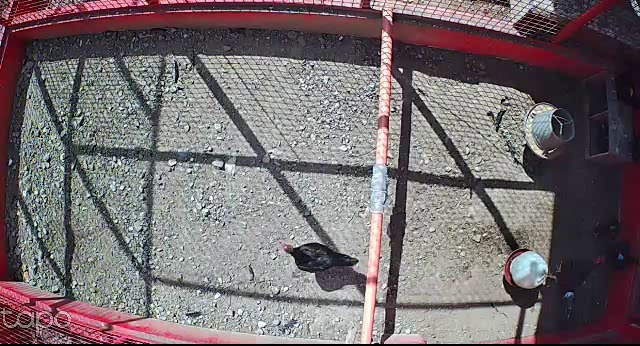Chicken: (279, 236, 359, 274), (602, 236, 640, 272), (591, 216, 629, 246)
Drinker: (503, 248, 551, 292)
Feeder: (524, 100, 577, 161)
Rooster: (539, 251, 609, 329)
Saddle_Color_Blue: (617, 252, 627, 262)
